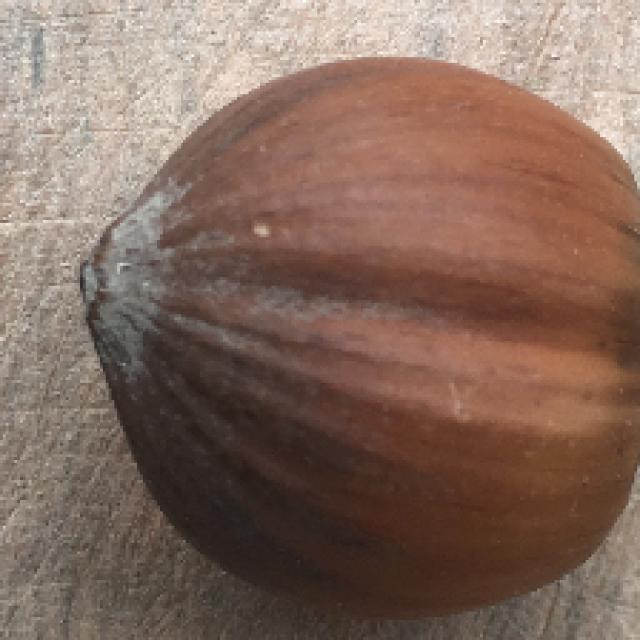DamagedHazelnut: (78, 60, 637, 612)
